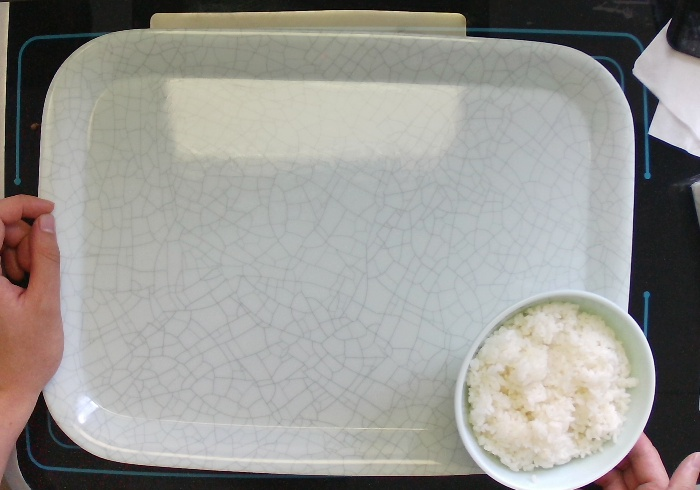JYsf-Fan_Wan: (450, 286, 659, 490)
